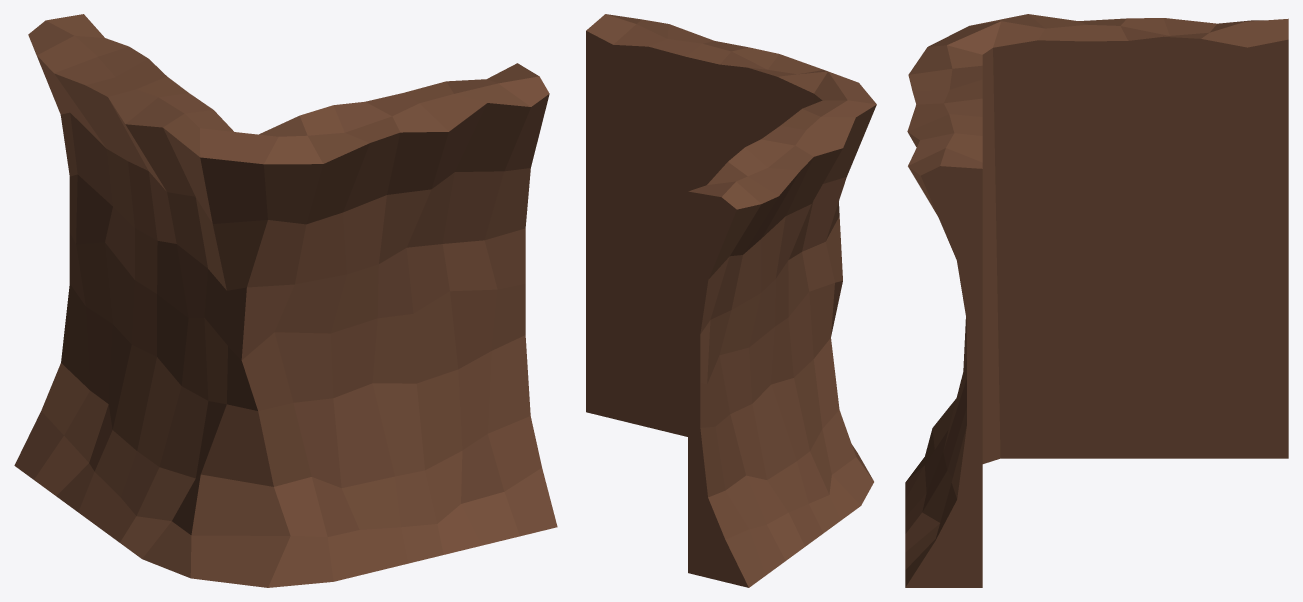
File: CaveWallRoundInvertHigh.fbx
3 renders of one model, left to right at view 1: azimuth 30°, elevation 25°; view 2: azimuth 150°, elevation 25°; view 3: azimuth 270°, elevation 25°, orthographic. The views are drawn at different scales.
Visible parts, largest first — view 1: CaveWallRoundInvertHigh; view 2: CaveWallRoundInvertHigh; view 3: CaveWallRoundInvertHigh.
Boxes of the visible parts, bbox=[...] form: CaveWallRoundInvertHigh: bbox=[14, 14, 557, 587]; CaveWallRoundInvertHigh: bbox=[586, 14, 876, 587]; CaveWallRoundInvertHigh: bbox=[905, 14, 1288, 587].
Size of the model in its own units: 581 by 705 by 581.
1 material, 1 textured.
